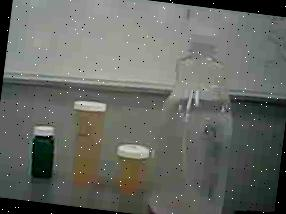Bottle A: (61, 96, 111, 189)
Bottle B: (107, 136, 154, 196)
Bottle C: (23, 122, 62, 184)
hazard: (146, 2, 256, 214)
